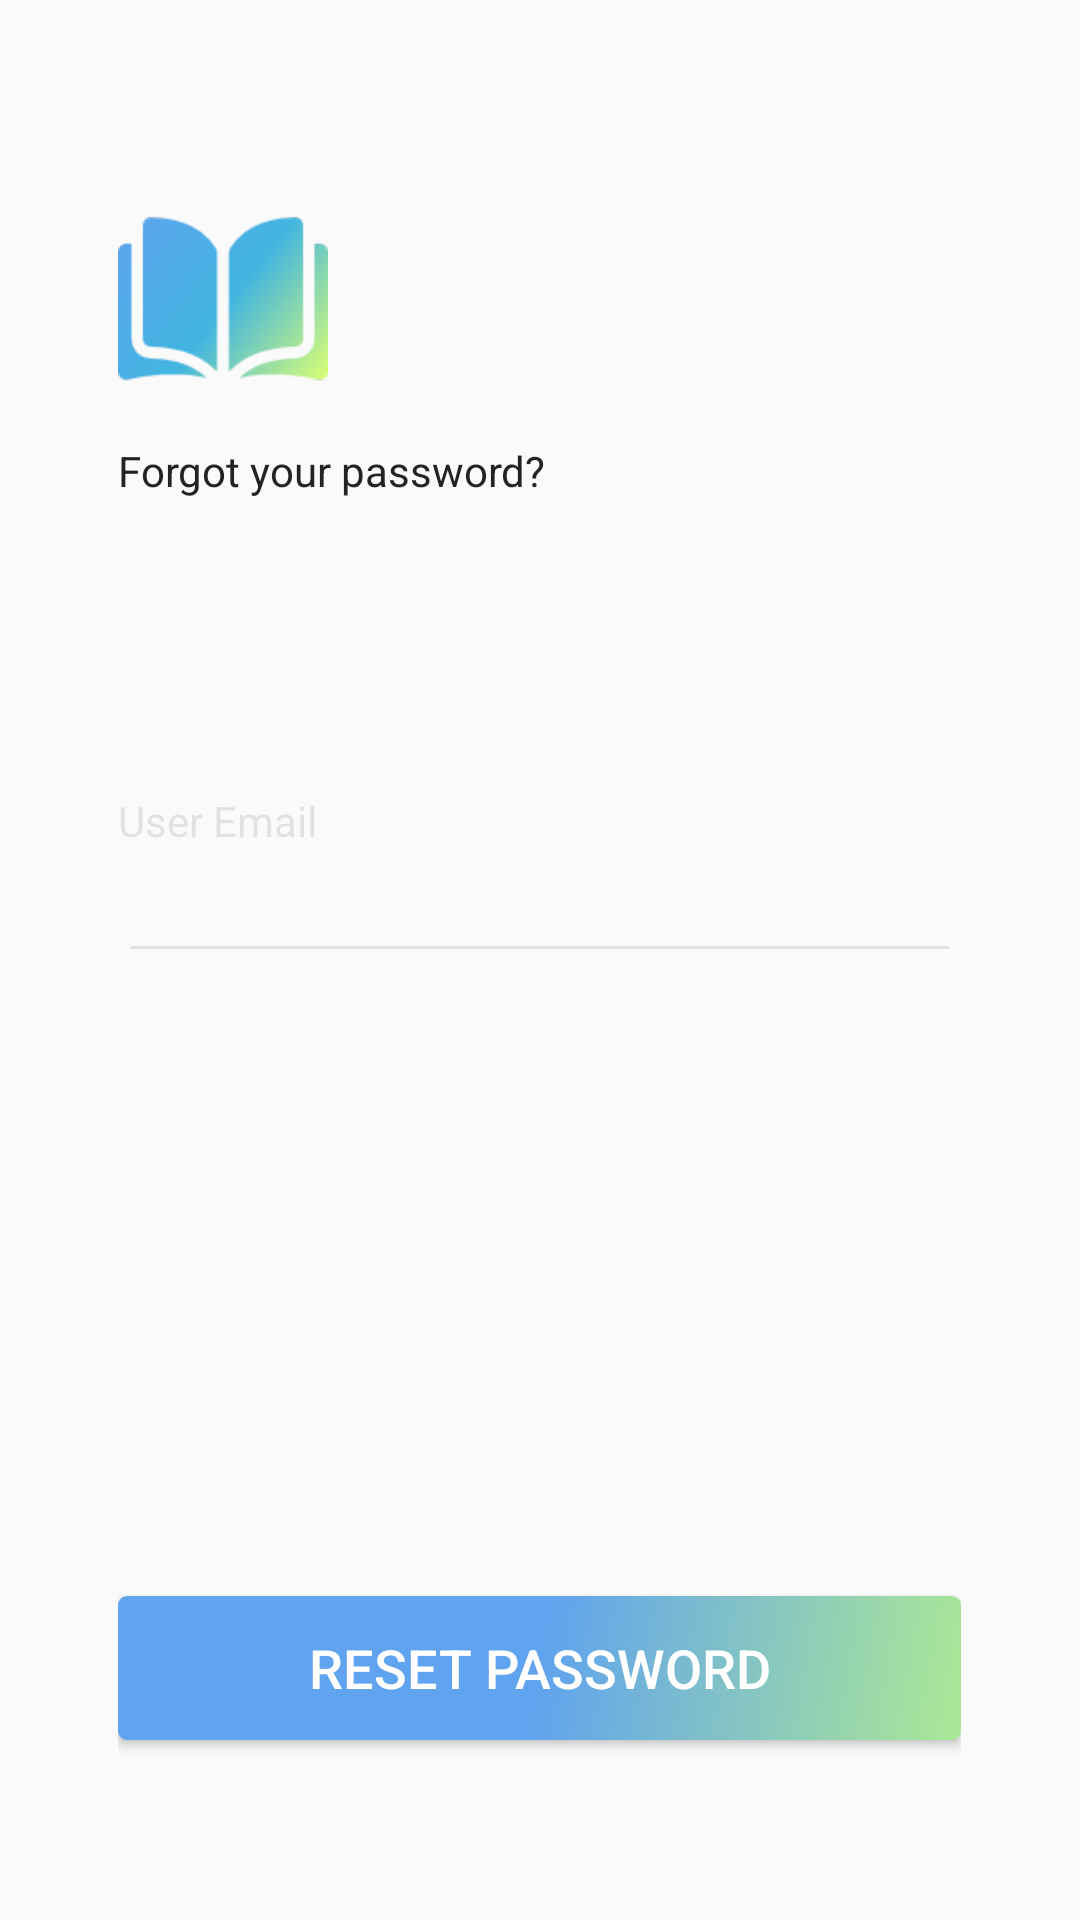

Where icons sit on this 1080w x 1920h app screen, as (x1,y1,x2,y2):
book: (118,217,328,381)
